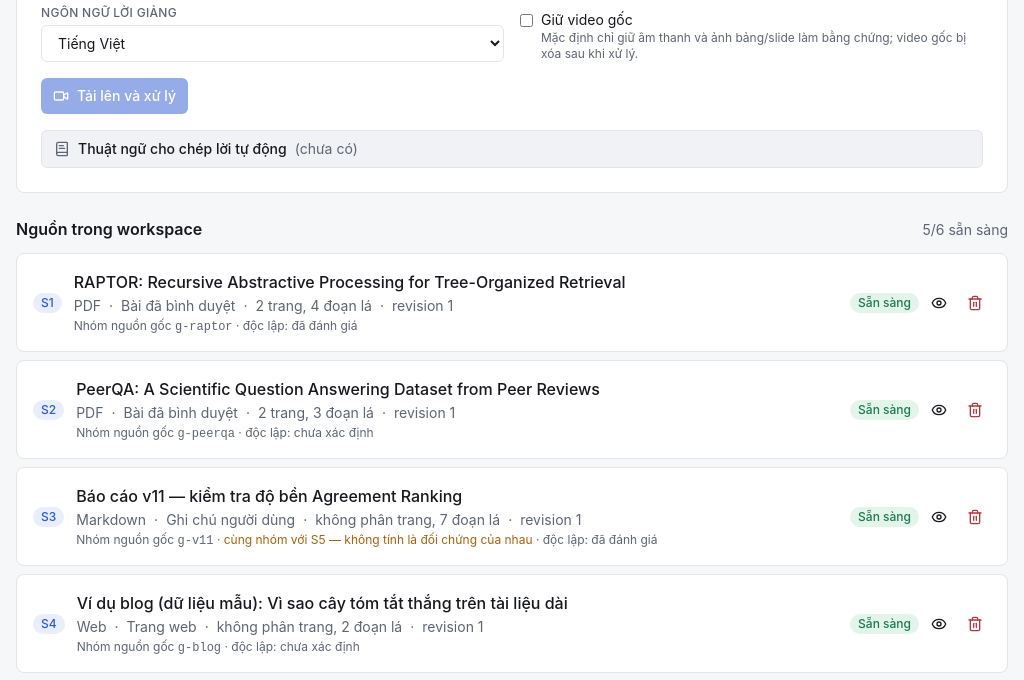
Scenario: Dịch tài liệu › tài liệu: dịch sang tiếng Anh, xem song song, nhắc bản dịch chỉ để đọc
(page scrolled)
Check: the text "RAPTOR: Recursive Abstractive Processing" is shown, box x1=74 y1=272 x2=626 y2=292
Click the button named "Xem nguồn S1" at (939, 302), box x1=923 y1=286 x2=955 y2=318
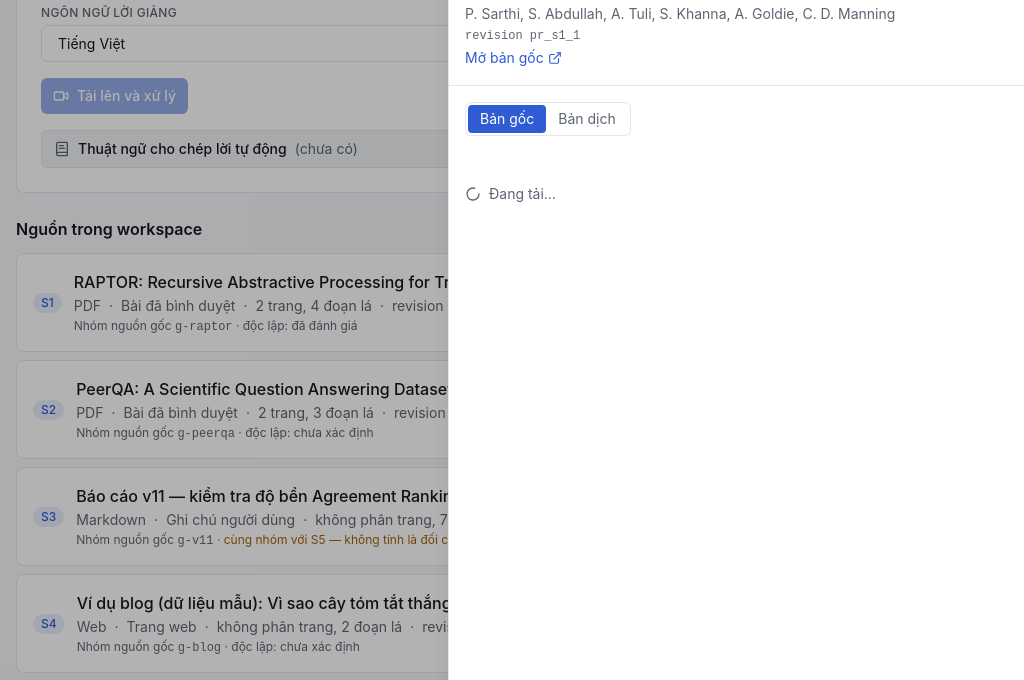
Click the tab "Bản dịch" at (587, 119), box x1=546 y1=105 x2=628 y2=133
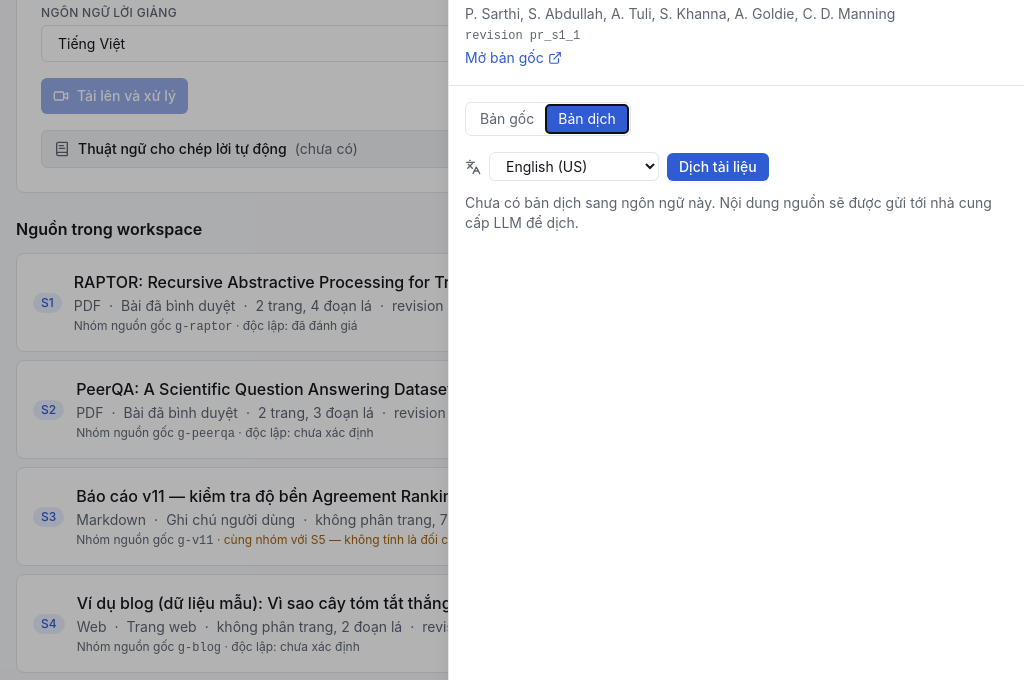
Check: the text "Nội dung nguồn sẽ được gửi tới nhà cung cấp LLM" is shown, box x1=465 y1=194 x2=992 y2=231
Check: the dropdown shows "English (US)", box x1=489 y1=152 x2=659 y2=181
Click the button "Dịch tài liệu" at (718, 166), box x1=667 y1=152 x2=769 y2=180
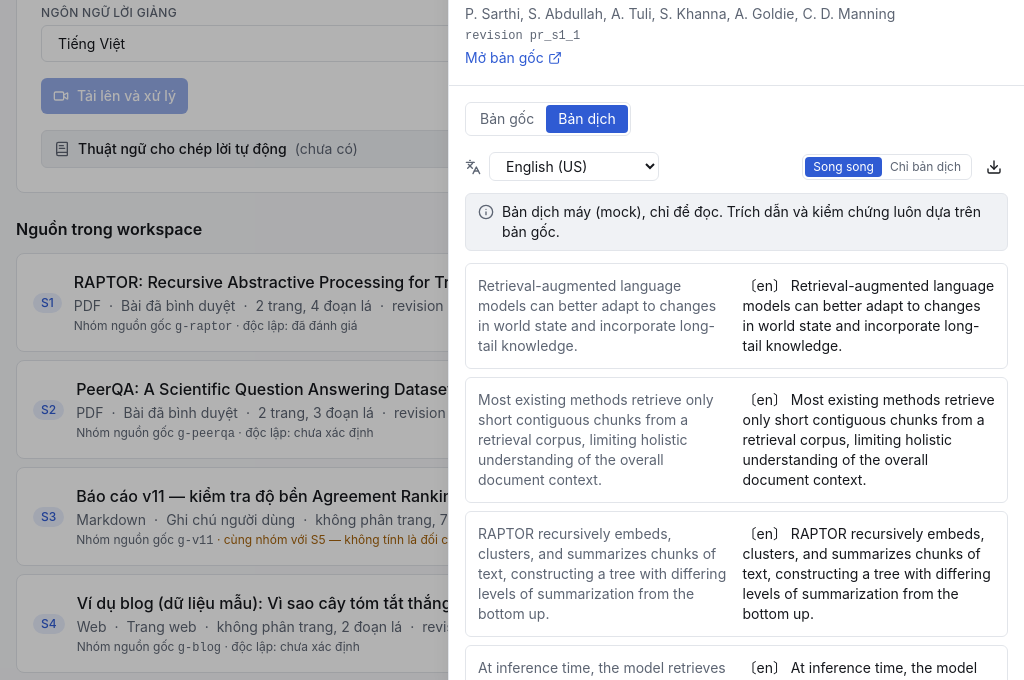
Check: the text "Bản dịch máy (mock), chỉ để đọc" is shown, box x1=502 y1=203 x2=981 y2=240
Check: the text "〔en〕 " is shown, box x1=742 y1=277 x2=998 y2=354
Click the radio button labelled "Chỉ bản dịch" at (926, 166), box x1=882 y1=156 x2=969 y2=176
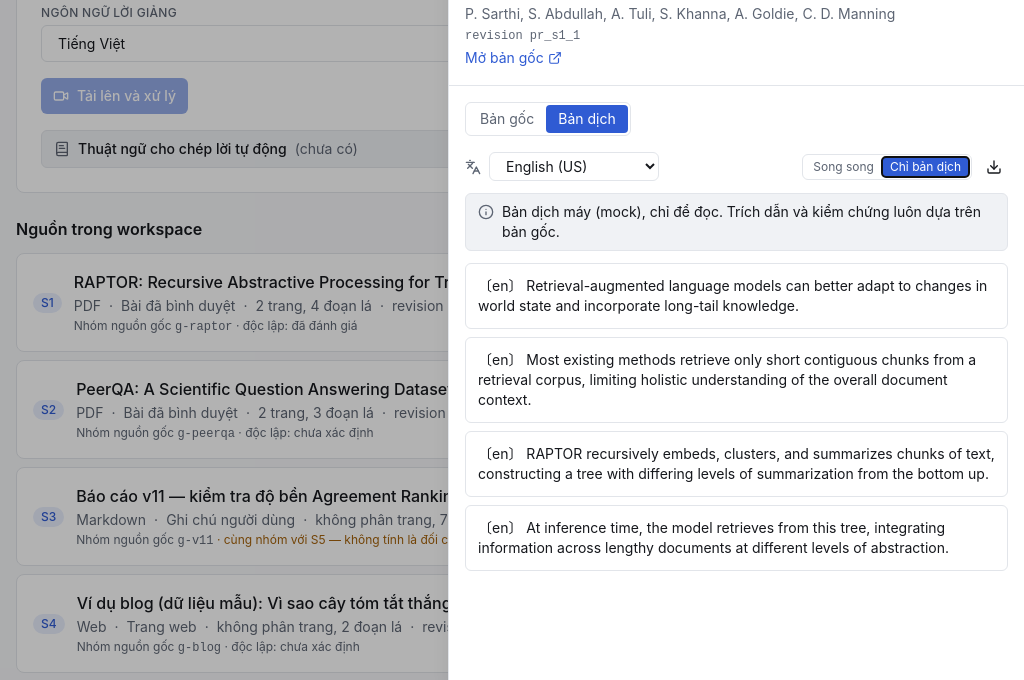
Check: the text "Retrieval-augmented language models" is shown once, box x1=478 y1=276 x2=995 y2=316
